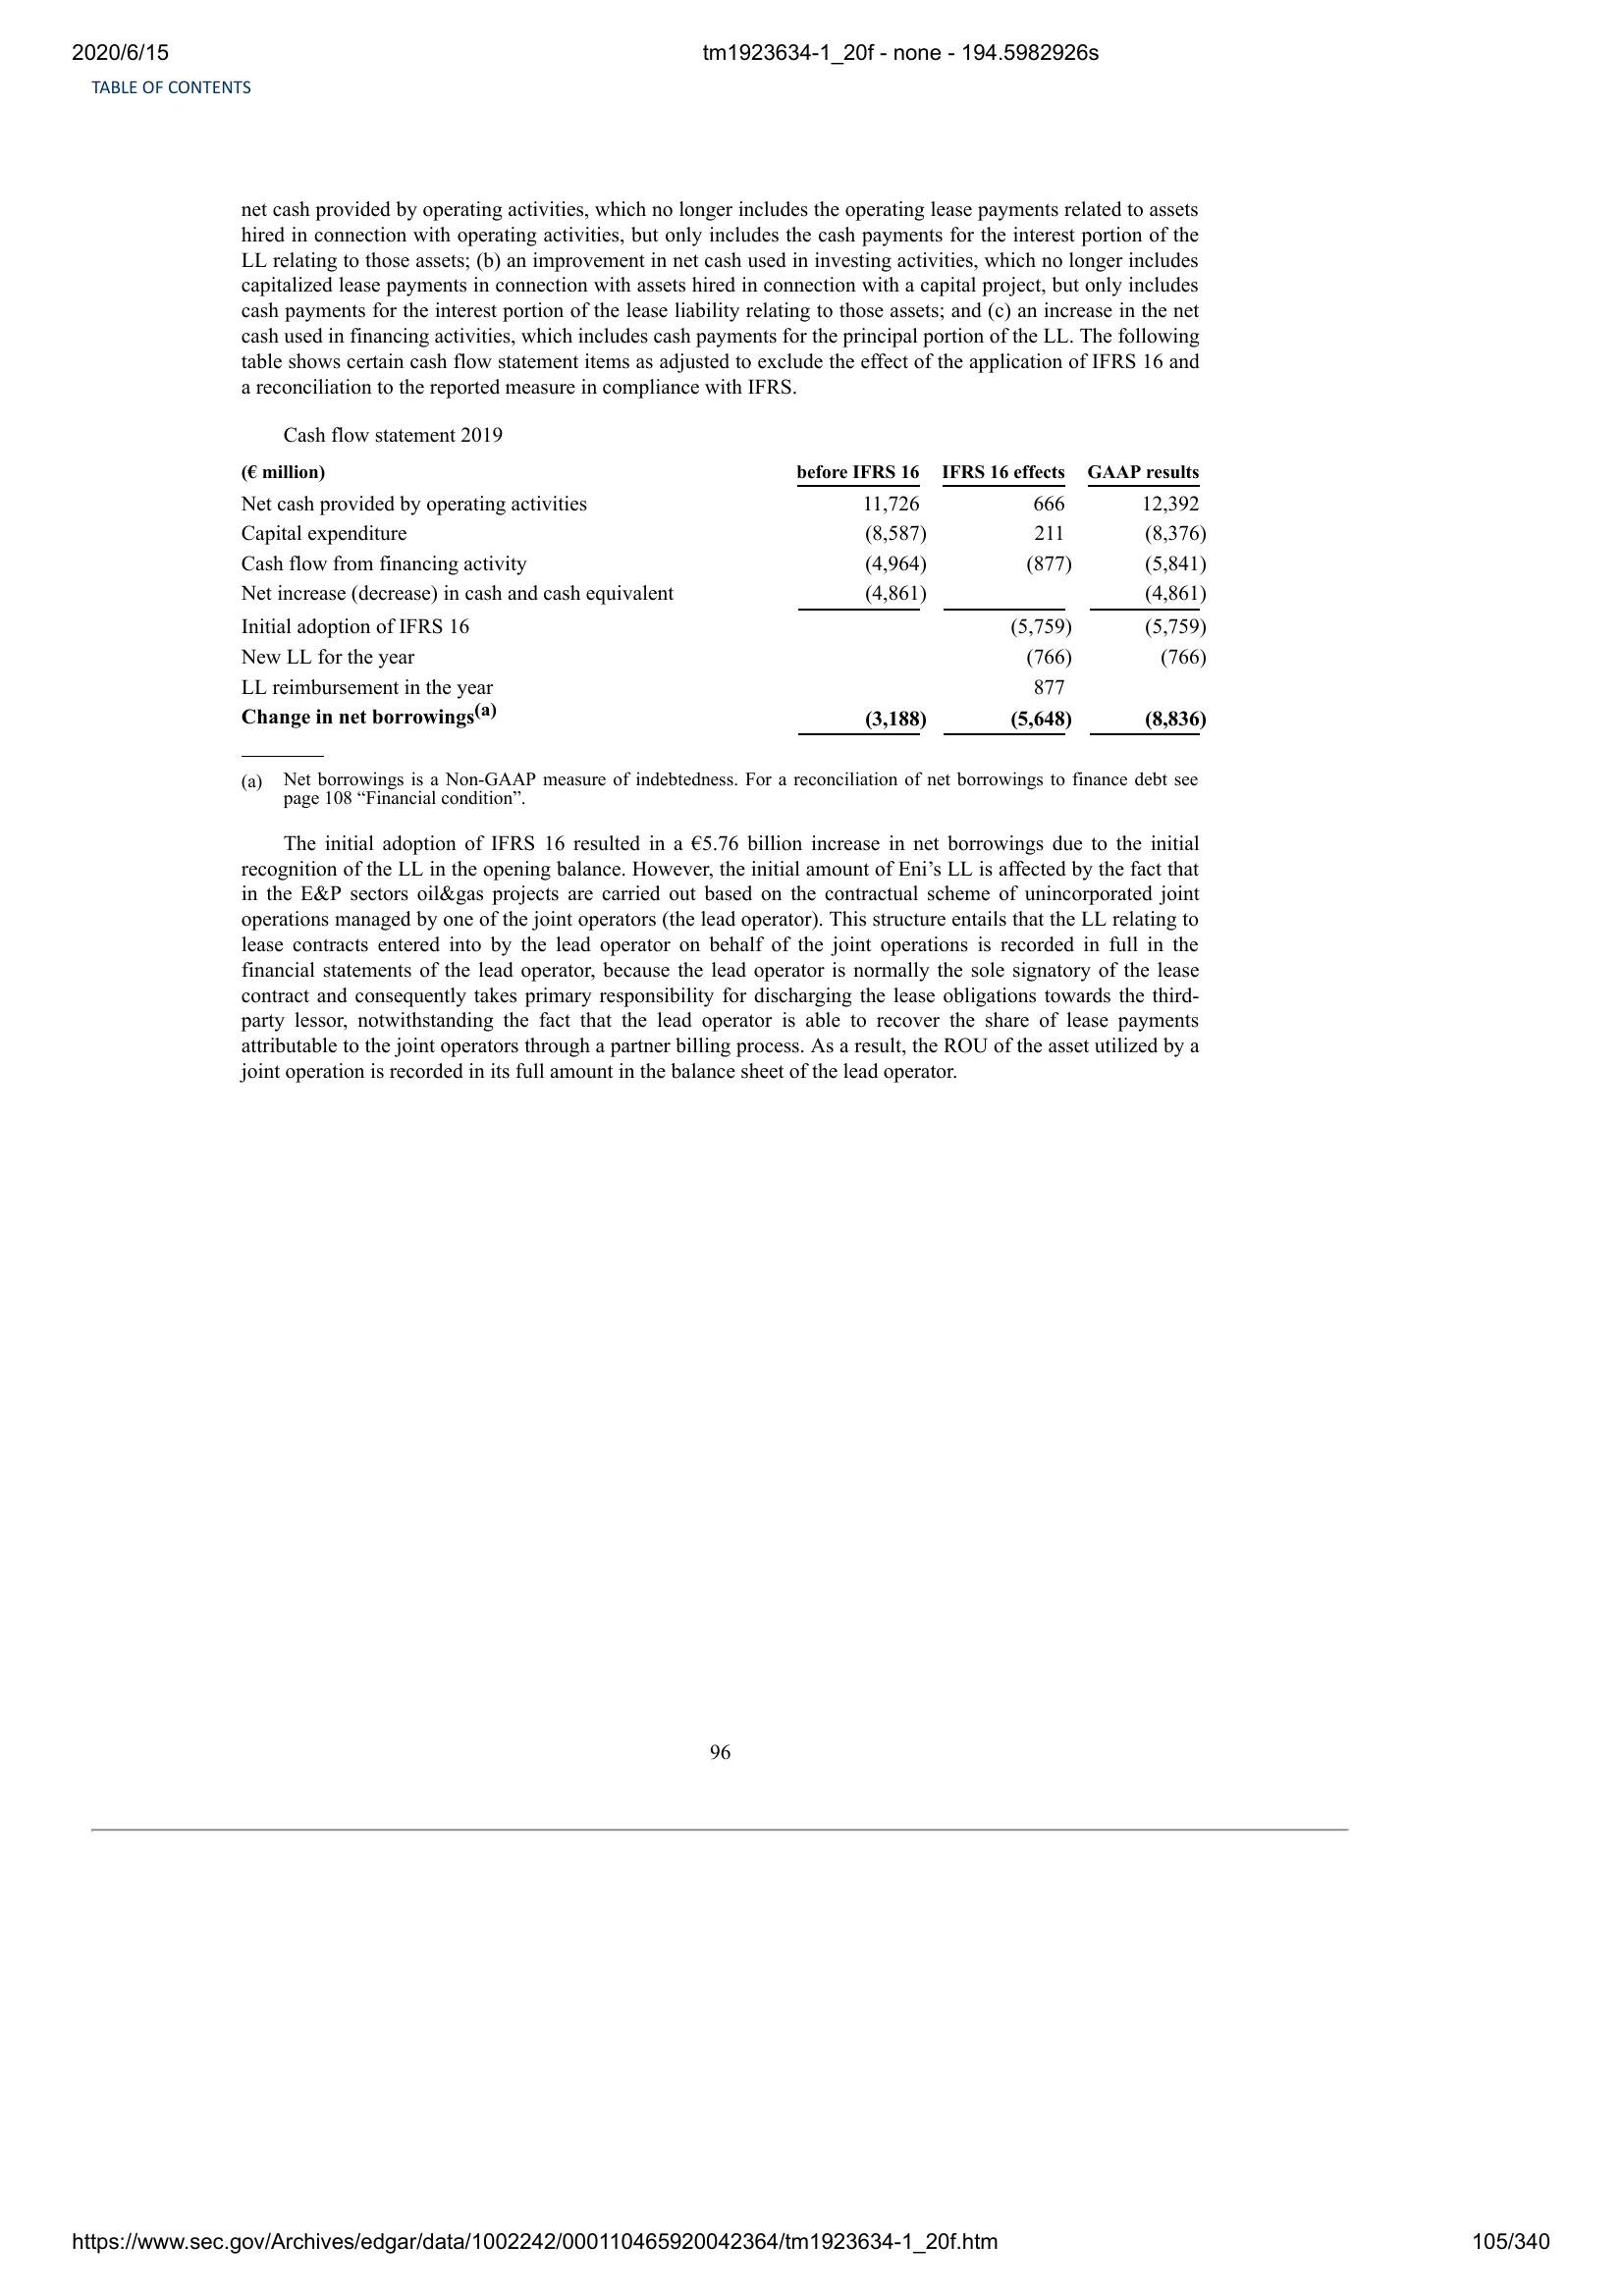table: (234, 455, 1217, 741)
